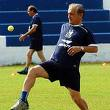tennis ball: (6, 24, 15, 32)
